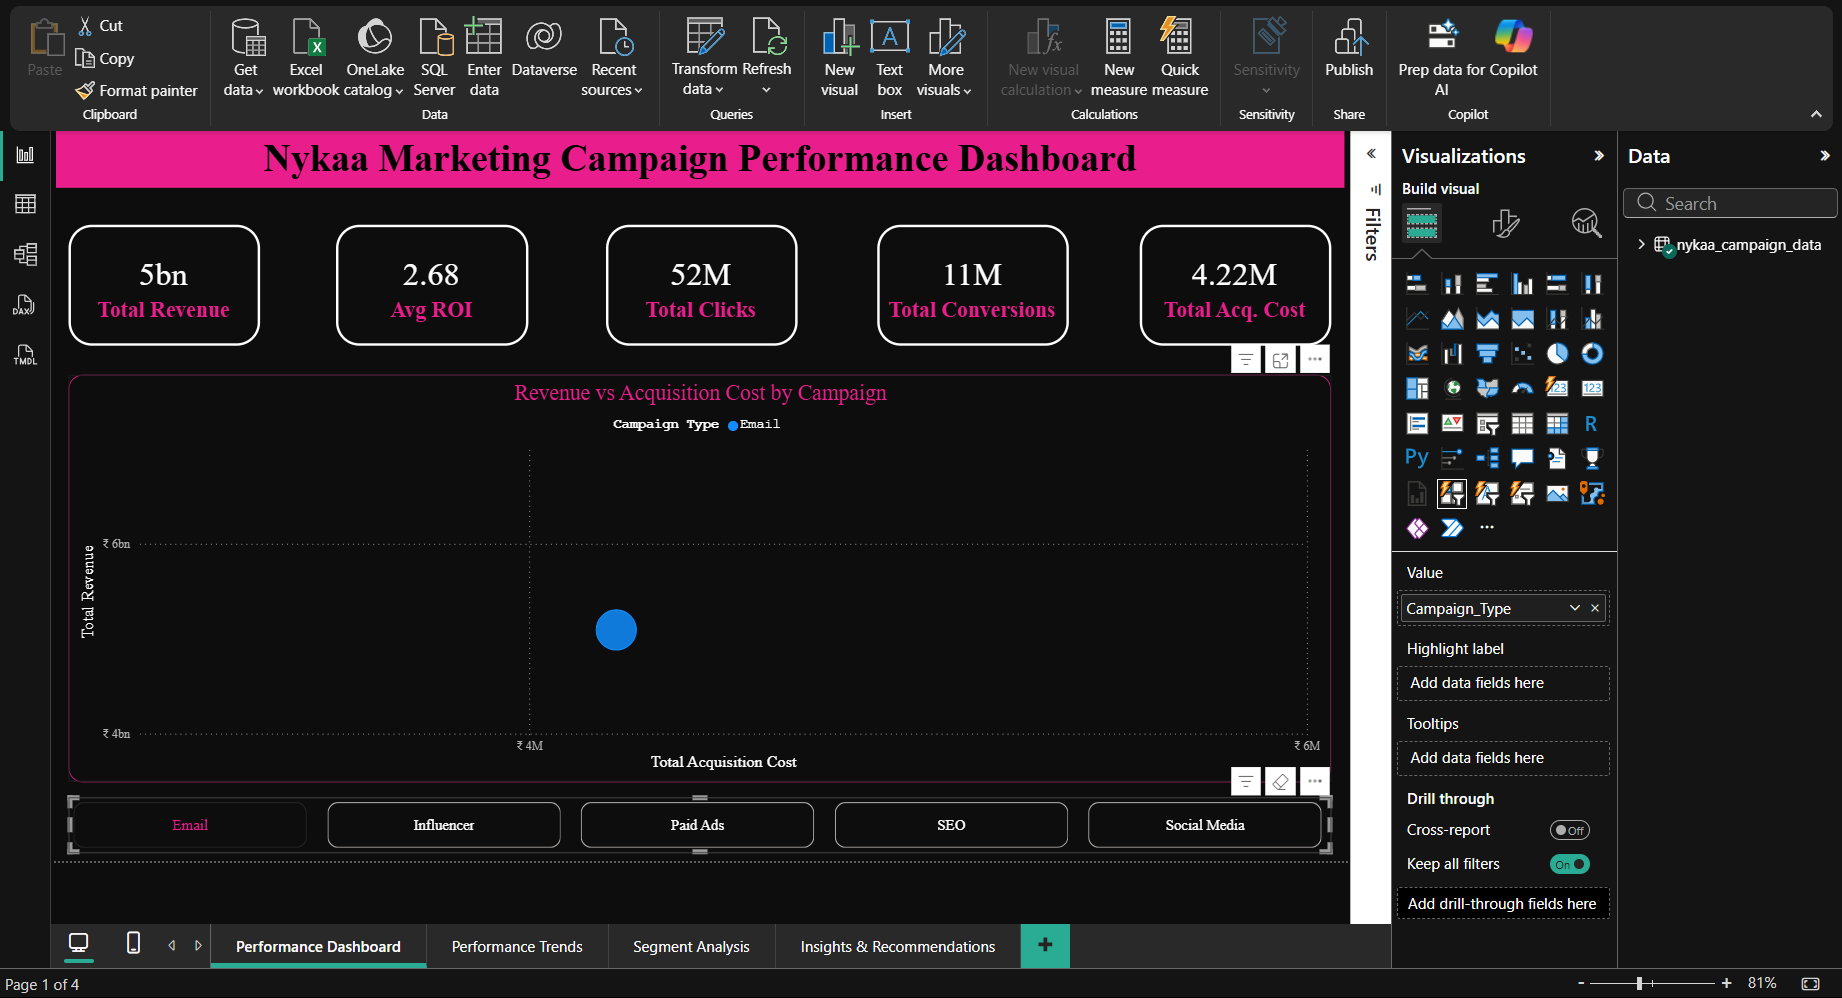

This screenshot's page, from the dashboard's own definition file:
{"tool":"powerbi","page":{"name":"Performance Dashboard","canvas":[1280,720],"ordinal":0},"visuals":[{"type":"textbox","box":[5.3,0,1269.4,55.8],"z":0},{"type":"card","fields":{"Values":["Sum(nykaa_campaign_data.Revenue)"]},"box":[17.2,92.4,188.5,119.5],"z":1000},{"type":"card","fields":{"Values":["Avg(nykaa_campaign_data.ROI)"]},"box":[280.8,92.4,189.7,119.5],"z":2000},{"type":"card","fields":{"Values":["Sum(nykaa_campaign_data.Clicks)"]},"box":[546.9,92.4,188.5,119.5],"z":3000},{"type":"card","fields":{"Values":["Sum(nykaa_campaign_data.Conversions)"]},"box":[814.2,92.4,188.5,119.5],"z":4000},{"type":"card","fields":{"Values":["Sum(nykaa_campaign_data.Acquisition_Cost)"]},"box":[1072.8,92.4,188.5,119.5],"z":5000},{"type":"scatterChart","title":"Revenue vs Acquisition Cost by Campaign","fields":{"X":["Sum(nykaa_campaign_data.Acquisition_Cost)"],"Y":["Sum(nykaa_campaign_data.Revenue)"],"Series":["nykaa_campaign_data.Campaign_Type"],"Size":["Sum(nykaa_campaign_data.Conversions)"]},"box":[17.2,240.2,1244,401.5],"z":6500},{"type":"advancedSlicerVisual","title":"Campaign Type","fields":{"Values":["nykaa_campaign_data.Campaign_Type"]},"box":[17.2,656.5,1244,55.4],"z":7000}]}

Visuals, with their boxes on the page's 1280x720 design canvas (x1, y1, x2, y2). These are canvas units, not pixel positions in the 1842x998 screenshot, which may show the page scaled, cropped or inside an application window:
textbox: (left=5, top=0, right=1275, bottom=56)
card - Sum(nykaa_campaign_data.Revenue): (left=17, top=92, right=206, bottom=212)
card - Avg(nykaa_campaign_data.ROI): (left=281, top=92, right=470, bottom=212)
card - Sum(nykaa_campaign_data.Clicks): (left=547, top=92, right=735, bottom=212)
card - Sum(nykaa_campaign_data.Conversions): (left=814, top=92, right=1003, bottom=212)
card - Sum(nykaa_campaign_data.Acquisition_Cost): (left=1073, top=92, right=1261, bottom=212)
"Revenue vs Acquisition Cost by Campaign" scatterChart: (left=17, top=240, right=1261, bottom=642)
"Campaign Type" advancedSlicerVisual: (left=17, top=656, right=1261, bottom=712)
